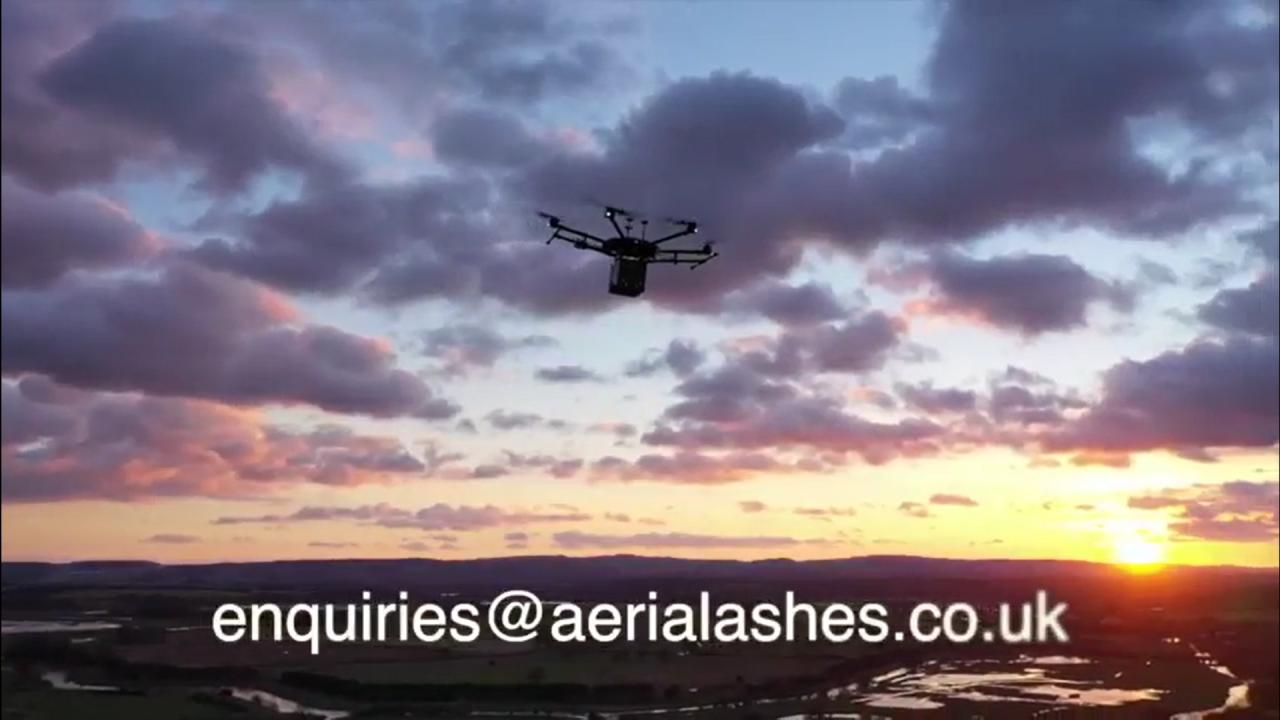Drone: (526, 189, 734, 281)
